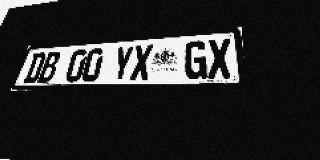0: (80, 48, 105, 82), (64, 49, 88, 82)
B: (37, 51, 62, 83)
D: (22, 52, 47, 83)
G: (184, 40, 207, 79)
X: (208, 38, 232, 79), (129, 44, 153, 81)
Y: (110, 46, 134, 81)
